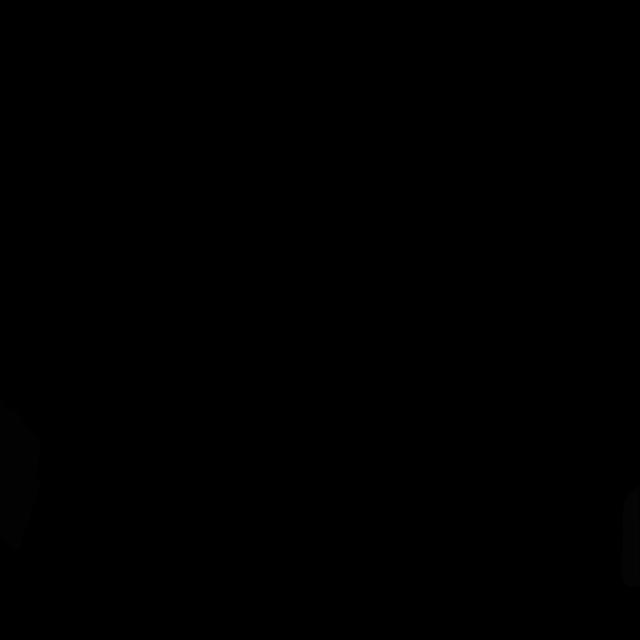cardboard: (0, 389, 41, 550)
soft_plastic: (621, 484, 640, 588)
